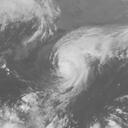cyclone: (48, 25, 113, 89)
